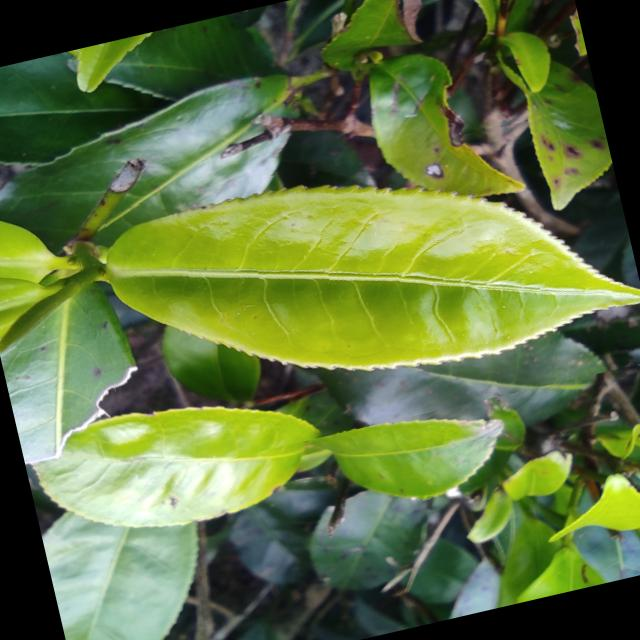Category B(2-4 days): (67, 96, 640, 480)
